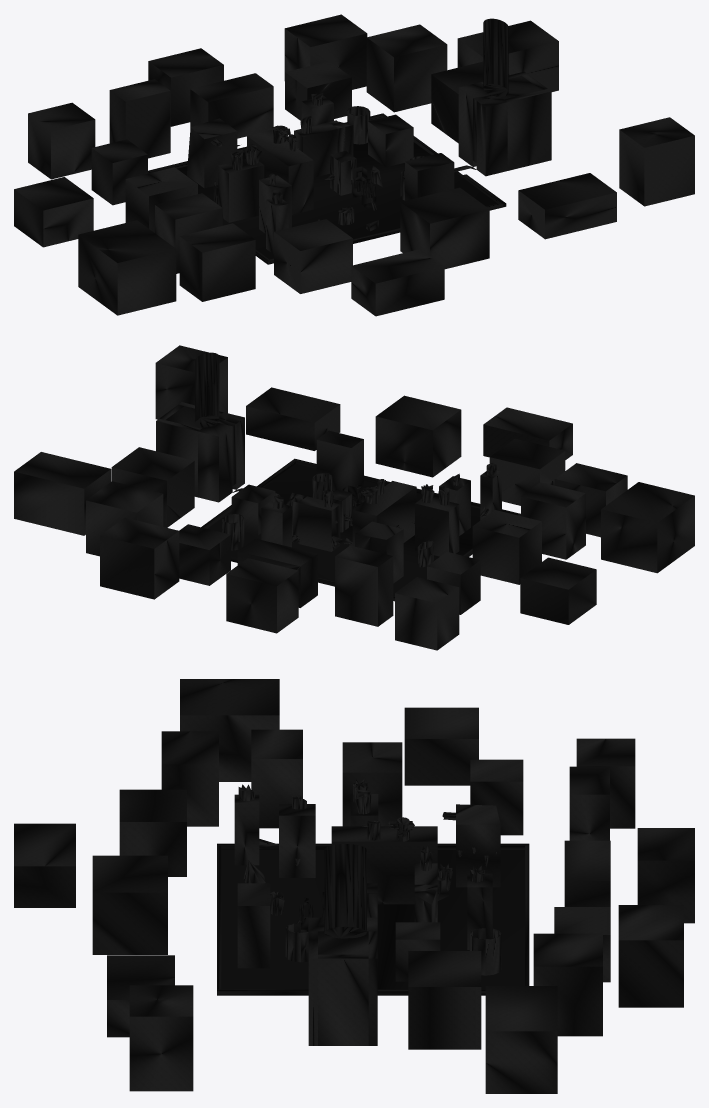
The model's file is dimension1499_opt.obj.
3 renders of one model, top to bottom at view 1: azimuth 30°, elevation 25°; view 2: azimuth 150°, elevation 25°; view 3: azimuth 270°, elevation 25°, orthographic. The views are drawn at different scales.
Size of the model in its own units: 2294 by 558 by 1896.
3 materials, 3 textured.
